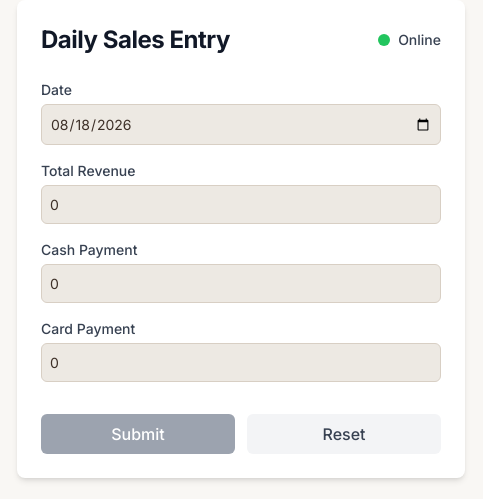
Test case: SalesForm Component › Reset 버튼이 폼을 초기화한다
Replace the text in the number field labelled "Total Revenue" with "1000" at coordinates (241, 204), box [41,185,441,224]
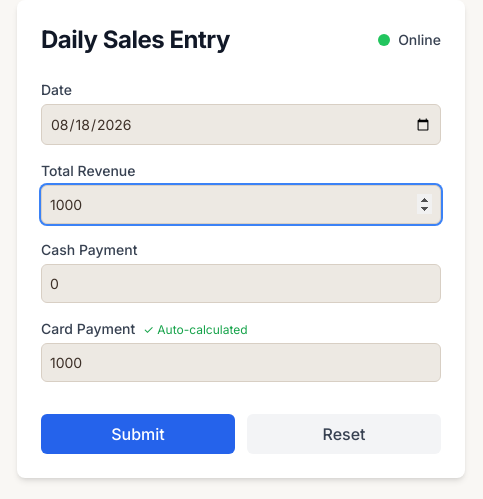
Click the button "Reset" at coordinates (344, 434), box [247,414,441,454]
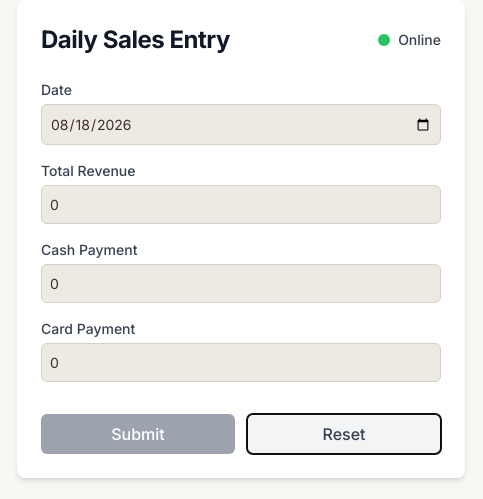
Result: the number field labelled "Total Revenue" holds "0" at [41,185,441,224]
